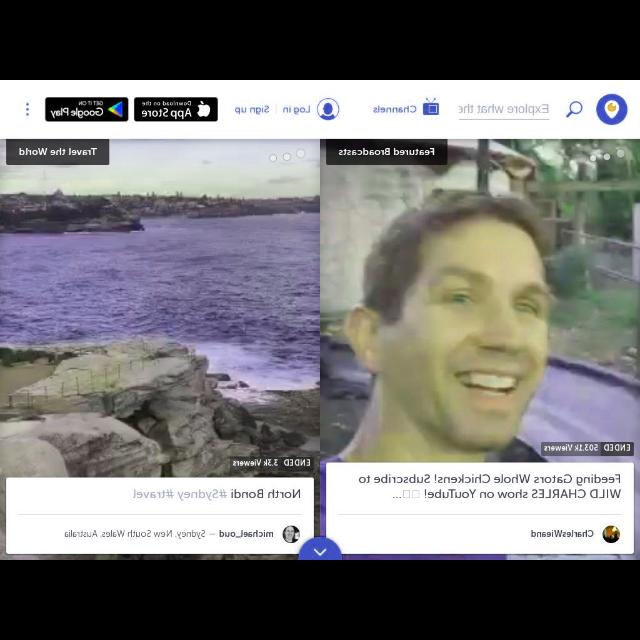icon: (317, 100, 338, 118), (564, 98, 580, 120), (421, 96, 439, 115), (25, 101, 33, 117), (310, 548, 330, 554)
image: (320, 138, 640, 558), (2, 138, 318, 556), (596, 93, 626, 125), (282, 526, 300, 542), (604, 525, 622, 541), (110, 102, 124, 118), (198, 100, 210, 116)
input: (452, 99, 552, 118)
text: (358, 474, 624, 501), (128, 489, 304, 503), (62, 530, 274, 540), (336, 144, 434, 158), (456, 102, 548, 116), (142, 101, 192, 119), (51, 101, 105, 117), (544, 443, 634, 452), (18, 148, 96, 158), (532, 528, 596, 538), (234, 460, 312, 468), (370, 104, 416, 114), (233, 104, 270, 114), (280, 104, 312, 114)
textbutton: (134, 98, 218, 122), (46, 98, 128, 120), (296, 537, 344, 559)
toolbar: (1, 80, 639, 138)
